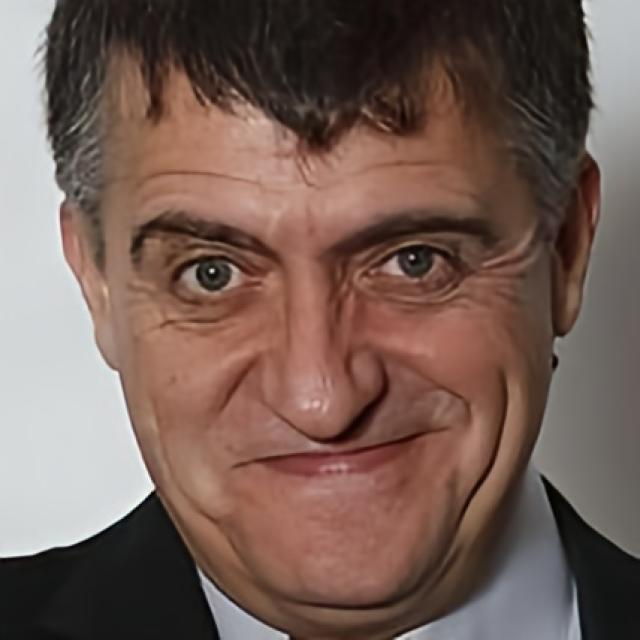content: (100, 3, 554, 640)
